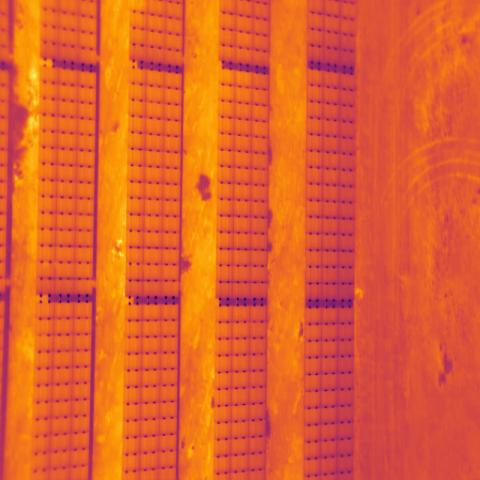fault: (131, 1, 146, 12)
